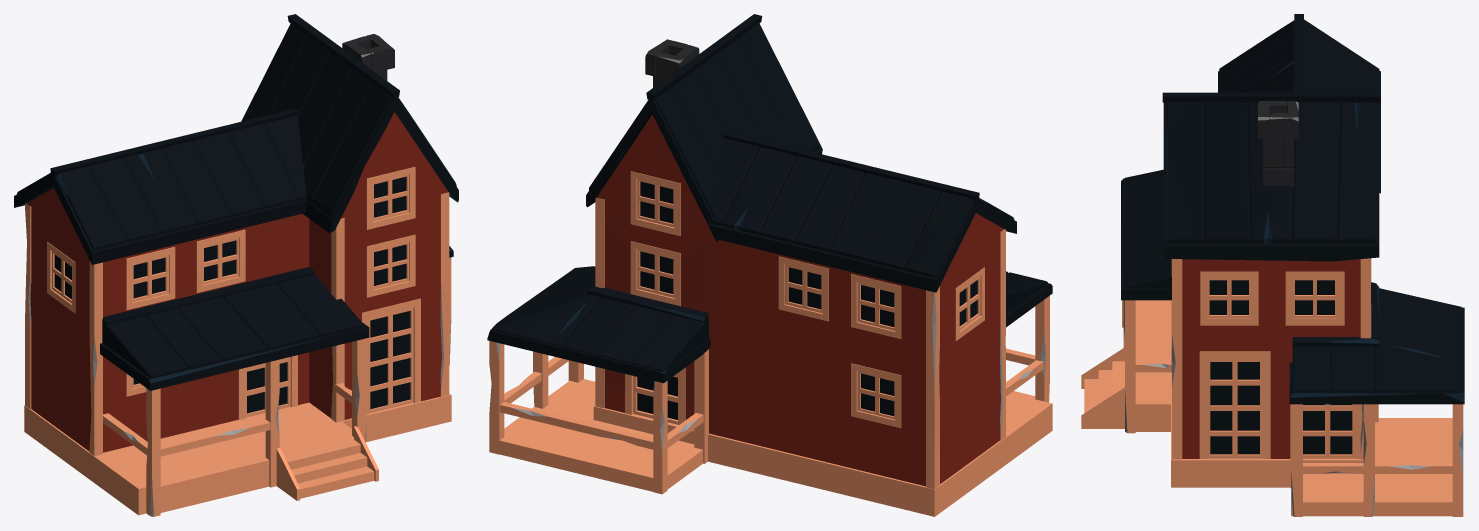
Rendered from House_3.001_1.fbx.
3 views of the same model, side by side, from view 1: azimuth 30°, elevation 25°; view 2: azimuth 150°, elevation 25°; view 3: azimuth 270°, elevation 25° (orthographic). The views are drawn at different scales.
Visible parts, largest first — view 1: House_3.001_1; view 2: House_3.001_1; view 3: House_3.001_1.
Part boxes in pixels (left/top/right/bottom): House_3.001_1: left=14, top=14, right=458, bottom=516; House_3.001_1: left=487, top=14, right=1052, bottom=516; House_3.001_1: left=1081, top=14, right=1464, bottom=516.
Size of the model in its own units: 340 by 285 by 273.
